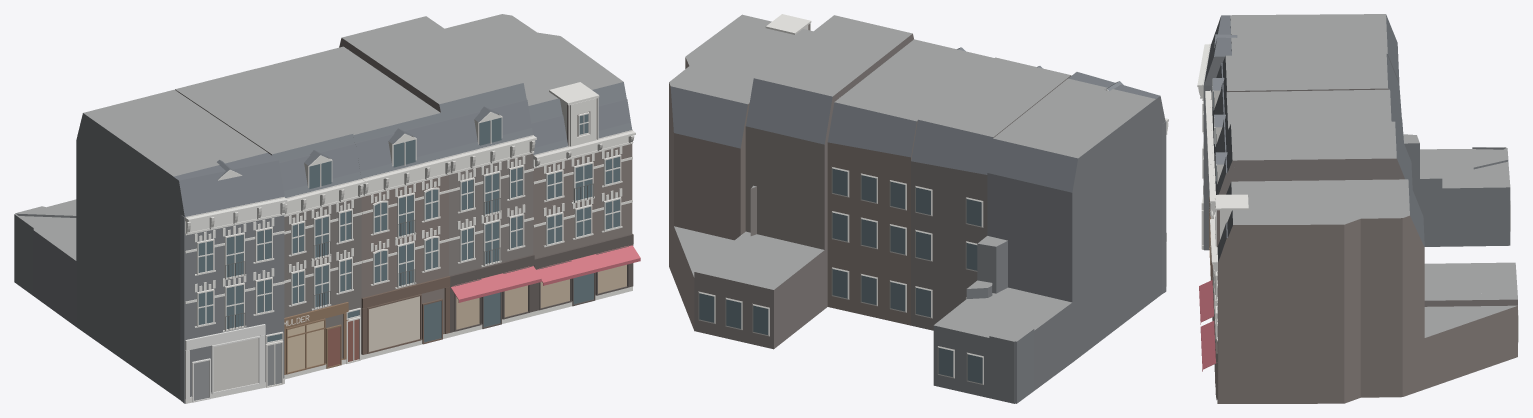
The model's file is chunk-face-schuyt-8-16.glb.
3 renders of one model, left to right at view 1: azimuth 30°, elevation 25°; view 2: azimuth 150°, elevation 25°; view 3: azimuth 270°, elevation 25°, orthographic. The views are drawn at different scales.
Parts seen in each view (by area): view 1: face-schuyt-8-16; view 2: face-schuyt-8-16; view 3: face-schuyt-8-16.
Boxes of the visible parts, bbox=[...] form: face-schuyt-8-16: bbox=[14, 14, 640, 403]; face-schuyt-8-16: bbox=[669, 14, 1168, 403]; face-schuyt-8-16: bbox=[1197, 14, 1518, 403].
Size of the model in its own units: 29.82 by 14.15 by 20.58.
